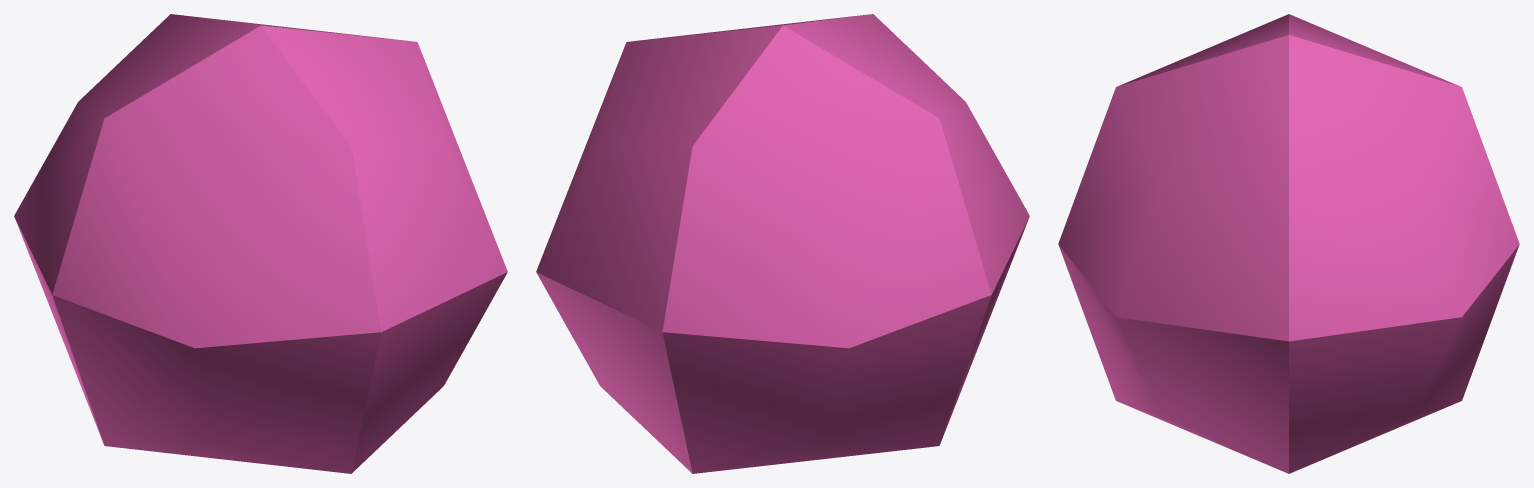
File: Explosion_candy.fbx
The picture shows the model from 3 angles, left to right: view 1: azimuth 30°, elevation 25°; view 2: azimuth 150°, elevation 25°; view 3: azimuth 270°, elevation 25°; orthographic projection. The views are drawn at different scales.
Visible parts, largest first — view 1: Explosion_candy2, Explosion_candy3, Explosion_candy, Explosion_candy5, Explosion_candy1, Explosion_candy4; view 2: Explosion_candy5, Explosion_candy4, Explosion_candy, Explosion_candy2, Explosion_candy6, Explosion_candy3; view 3: Explosion_candy (×2), Explosion_candy1, Explosion_candy6, Explosion_candy2, Explosion_candy5.
Boxes of the visible parts, box(x1,y1,x2,y2) form: Explosion_candy2: box(52, 26, 381, 348); Explosion_candy3: box(52, 295, 381, 473); Explosion_candy: box(261, 25, 507, 331); Explosion_candy5: box(14, 14, 260, 294); Explosion_candy1: box(351, 272, 507, 473); Explosion_candy4: box(15, 218, 102, 441); Explosion_candy5: box(662, 26, 991, 348); Explosion_candy4: box(662, 295, 991, 473); Explosion_candy: box(536, 25, 782, 331); Explosion_candy2: box(783, 14, 1029, 294); Explosion_candy6: box(536, 272, 692, 473); Explosion_candy3: box(941, 218, 1028, 441); Explosion_candy (×2): box(1058, 35, 1519, 341); Explosion_candy1: box(1058, 244, 1288, 473); Explosion_candy6: box(1289, 244, 1519, 473); Explosion_candy2: box(1117, 14, 1288, 86); Explosion_candy5: box(1289, 14, 1460, 86).
Bounding box in the file's own units: 0.414 × 0.414 × 0.414.
